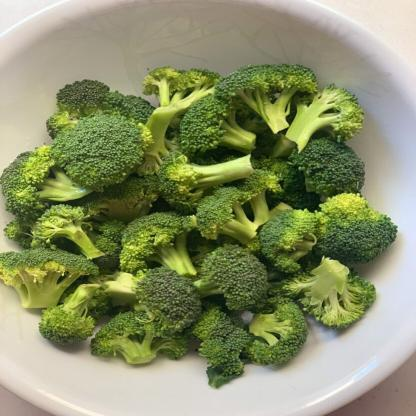broccoli: (0, 56, 401, 390)
